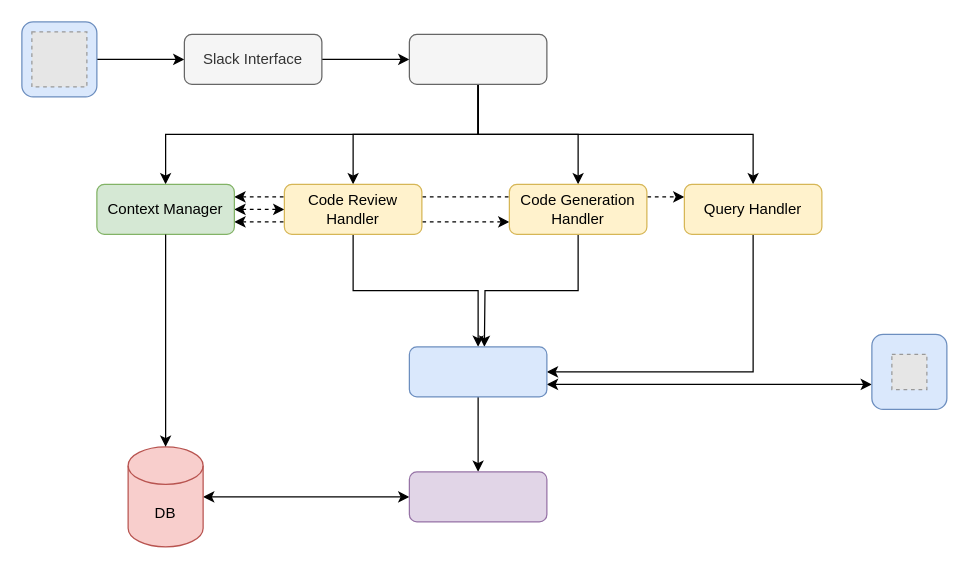
Image size: 969x569. Some labels were removed from this diagram. Grey dashed boxes stand in for pictures. Here are the shapes that lost their labels. From the top down, the centre of each, then its label:
(477,58): Message Router
(477,371): AI Service Interface
(477,496): Logging and Monitoring
